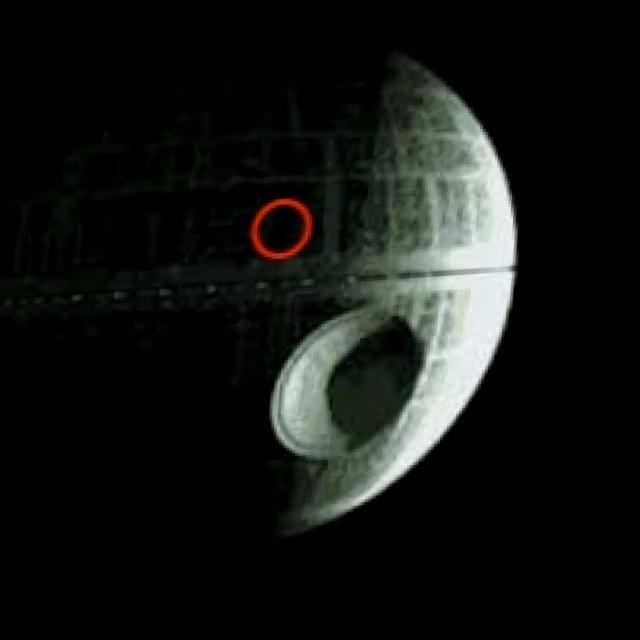deathStar: (0, 1, 542, 559)
